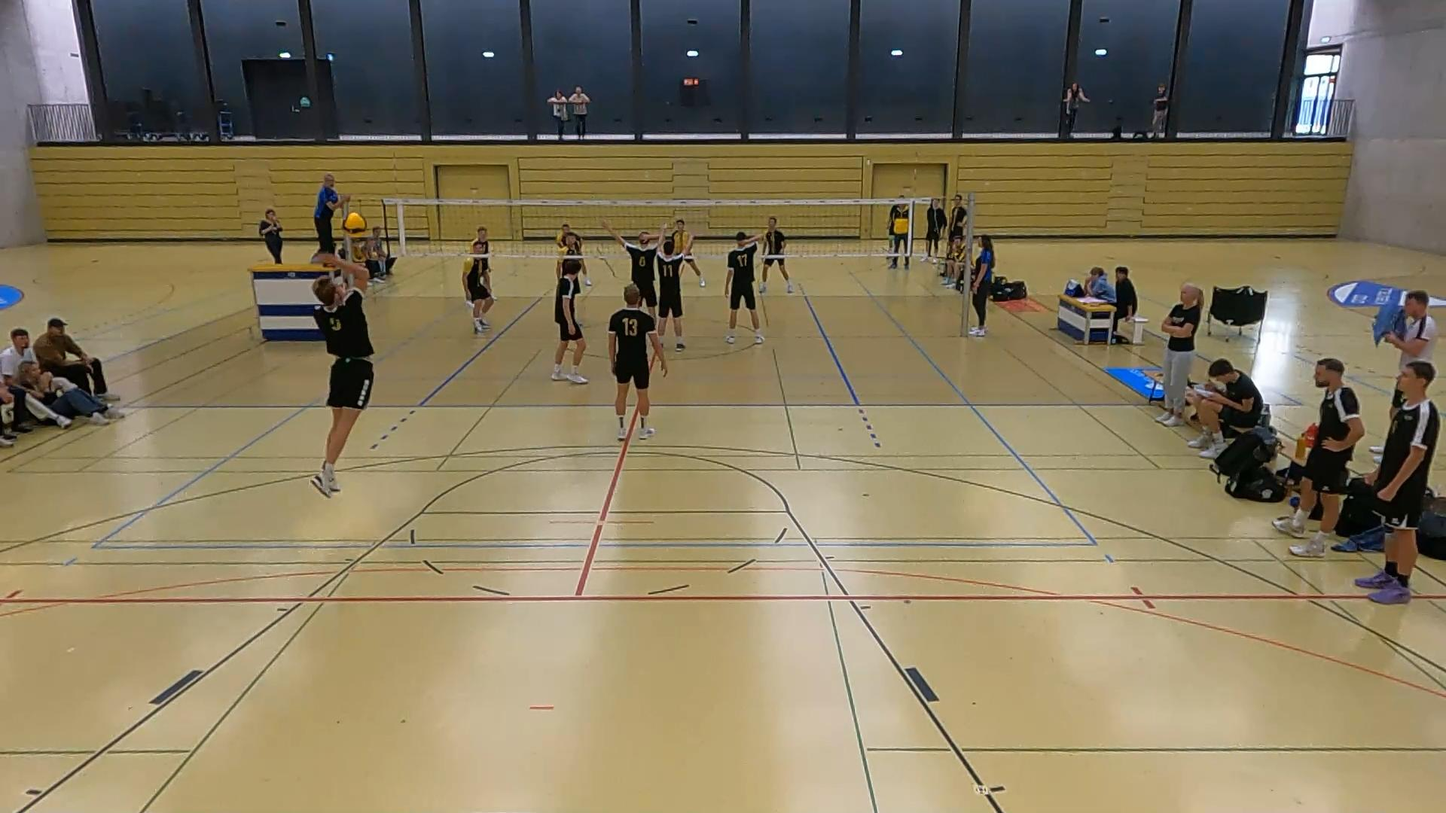battuta: (295, 246, 381, 507)
